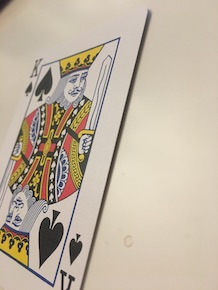KingOfSpades: (1, 5, 153, 290)
